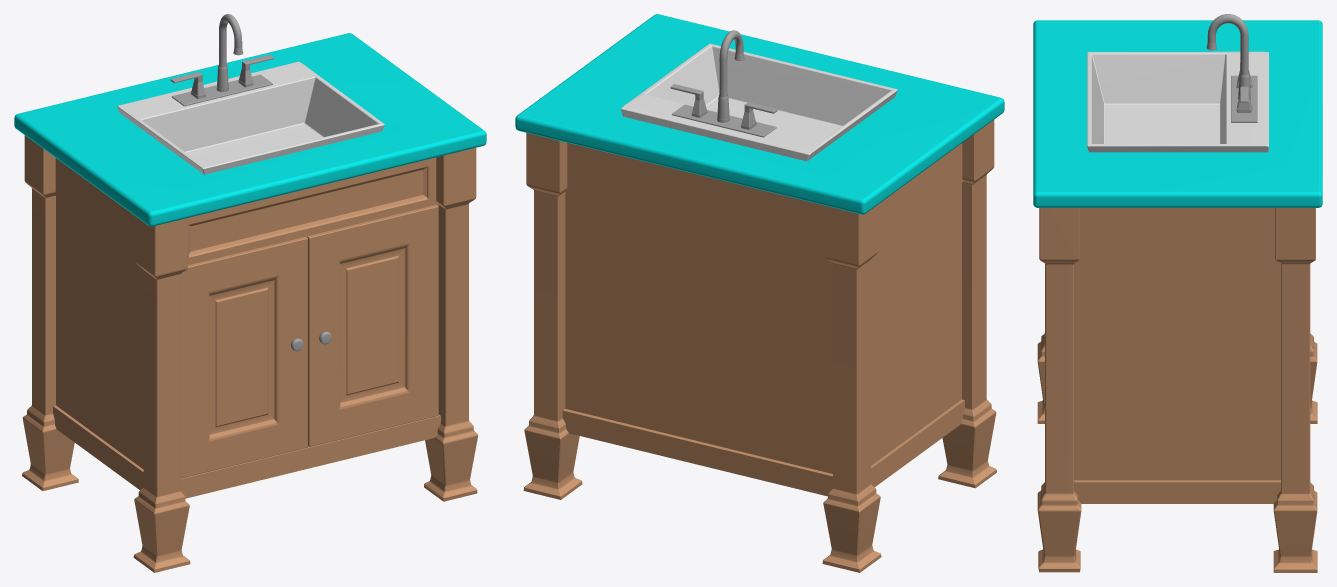
File: BathVanityFinal.fbx
3 views of the same model, side by side, from view 1: azimuth 30°, elevation 25°; view 2: azimuth 150°, elevation 25°; view 3: azimuth 270°, elevation 25° (orthographic). The views are drawn at different scales.
Visible parts, largest first — view 1: BathVanity; view 2: BathVanity; view 3: BathVanity.
Part boxes in pixels (box(x1,y1,x2,y2)): BathVanity: box(14, 14, 486, 572); BathVanity: box(515, 14, 1004, 572); BathVanity: box(1033, 14, 1322, 572).
Size of the model in its own units: 0.894 by 1.14 by 0.6267.
